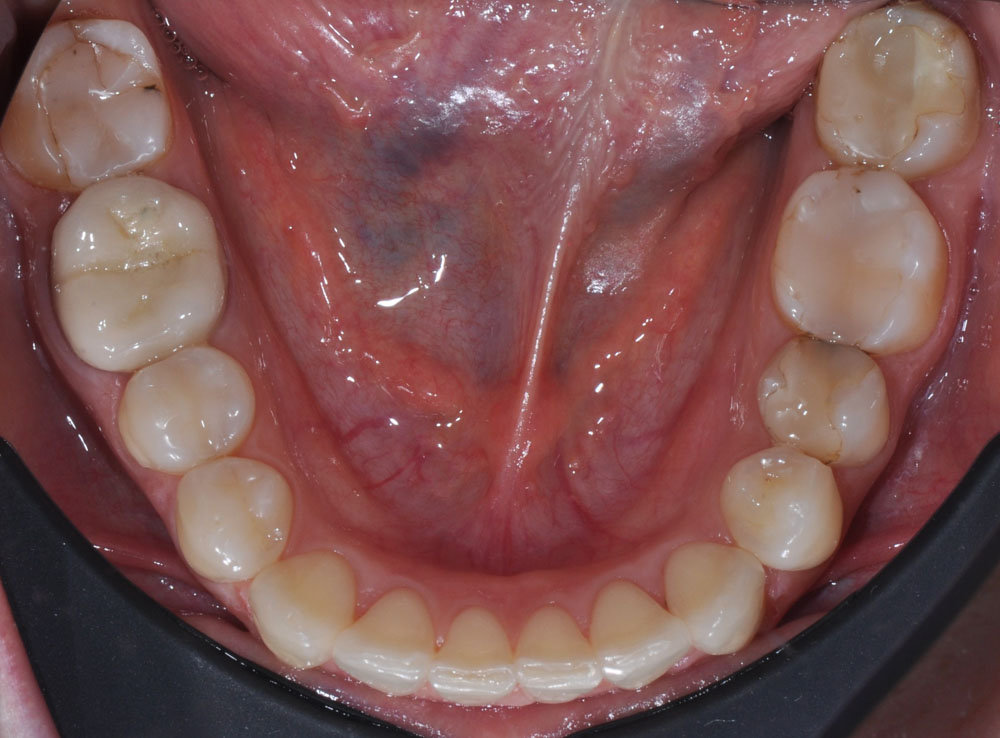LL1BC_healthy: (723, 454, 837, 567)
LL1M_healthy: (781, 176, 943, 345)
LL2BC_decay: (760, 339, 888, 458)
LL2M_decay: (816, 8, 980, 173)
LLCI_healthy: (519, 607, 598, 699)
LLC_healthy: (669, 546, 764, 655)
LLLI_healthy: (594, 588, 688, 686)
LR1BC_healthy: (180, 458, 290, 581)
LR1M_healthy: (54, 180, 219, 361)
LR2BC_healthy: (121, 352, 251, 469)
LR2M_decay: (23, 20, 164, 183)
LRCI_healthy: (436, 612, 515, 694)
LRC_healthy: (256, 557, 348, 667)
LRLI_healthy: (344, 592, 433, 691)
